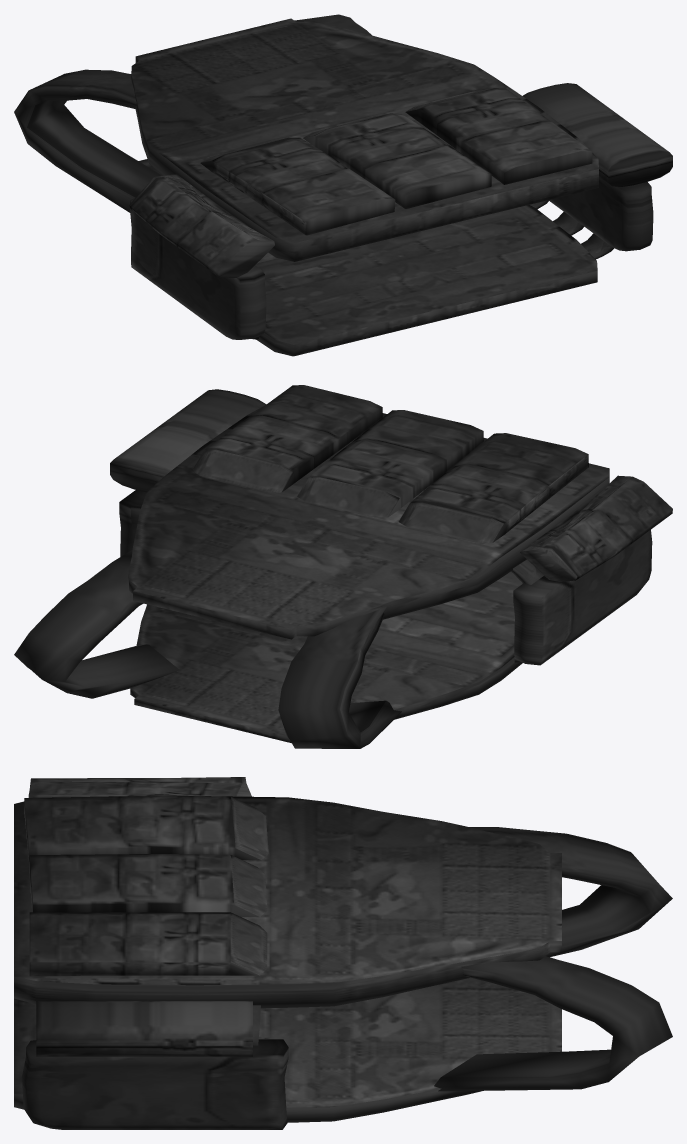
Rendered from WorldItem_AZ_TV110.fbx.
3 views of the same model, one above another, from view 1: azimuth 30°, elevation 25°; view 2: azimuth 150°, elevation 25°; view 3: azimuth 270°, elevation 25° (orthographic). The views are drawn at different scales.
Visible parts, largest first — view 1: Cube; view 2: Cube; view 3: Cube.
Part boxes in pixels (left/top/right/bottom): Cube: left=14, top=14, right=672, bottom=356; Cube: left=14, top=385, right=672, bottom=748; Cube: left=14, top=777, right=672, bottom=1129.
Size of the model in its own units: 0.2586 by 0.0732 by 0.2774.
